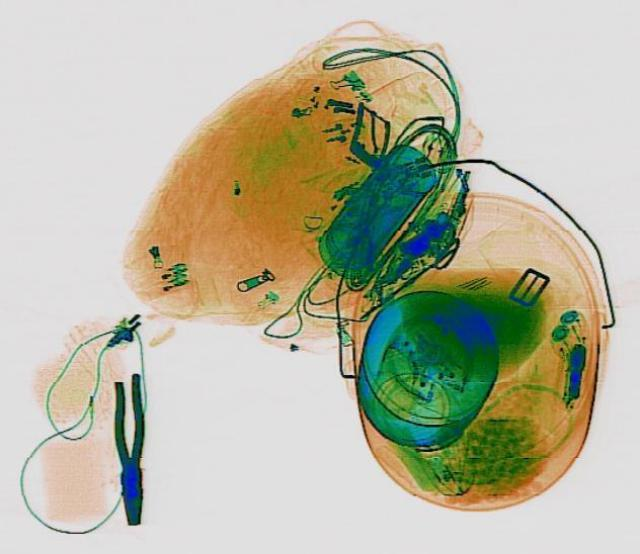Pliers: (109, 371, 150, 524)
